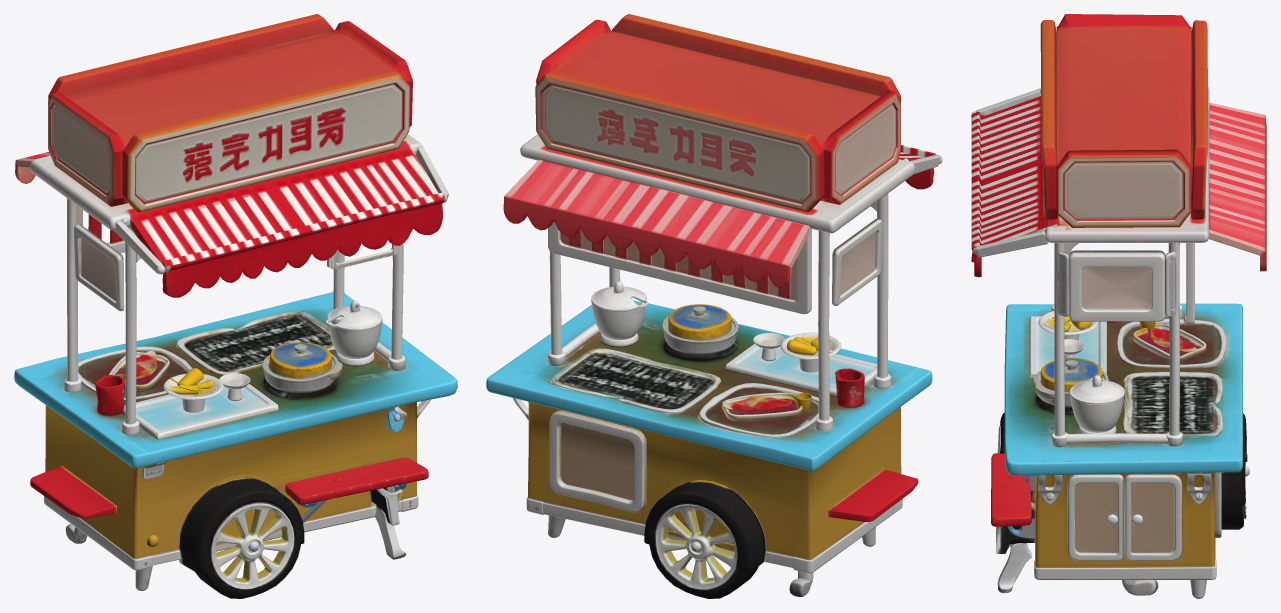
The model's file is toonstudio_food_cart.glb.
3 renders of one model, left to right at view 1: azimuth 30°, elevation 25°; view 2: azimuth 150°, elevation 25°; view 3: azimuth 270°, elevation 25°, orthographic. The views are drawn at different scales.
Parts seen in each view (by area): view 1: f1fbe115_78a2_4ebc_a34b_2fd8b11edba0; view 2: f1fbe115_78a2_4ebc_a34b_2fd8b11edba0; view 3: f1fbe115_78a2_4ebc_a34b_2fd8b11edba0.
Part boxes in pixels (x1,y1,x2,y2): f1fbe115_78a2_4ebc_a34b_2fd8b11edba0: (14,14,457,598); f1fbe115_78a2_4ebc_a34b_2fd8b11edba0: (486,14,942,598); f1fbe115_78a2_4ebc_a34b_2fd8b11edba0: (971,14,1266,598).
Size of the model in its own units: 1.56 by 2 by 1.17.
1 material, 1 textured.
